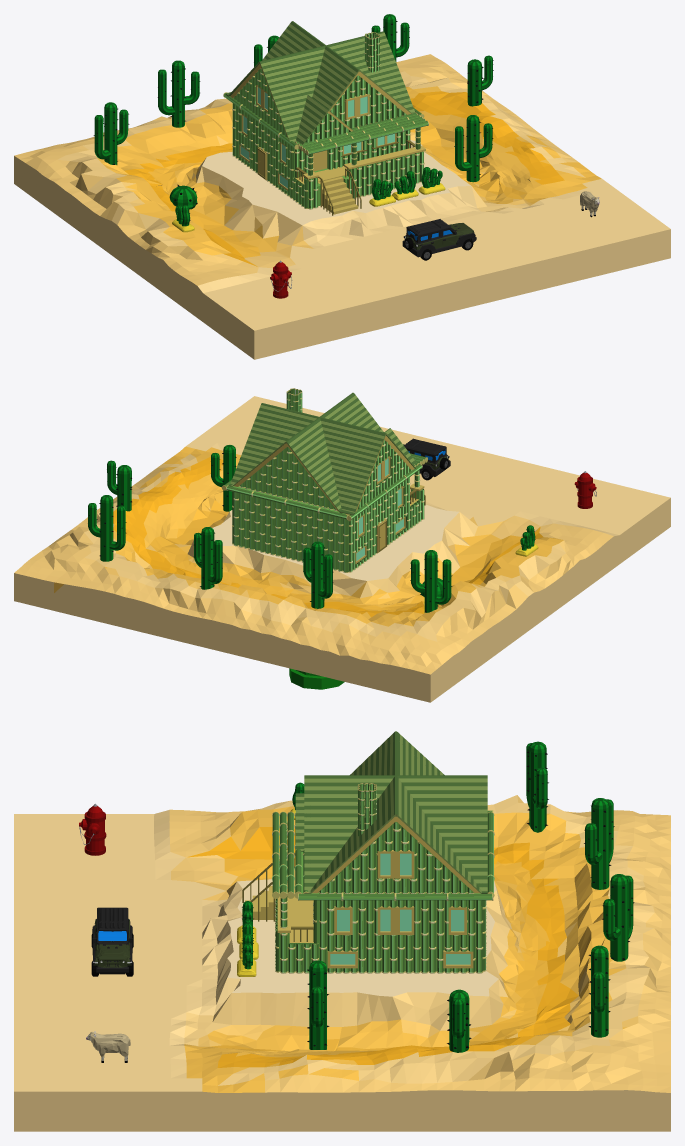
3 views of the same model, one above another, from view 1: azimuth 30°, elevation 25°; view 2: azimuth 150°, elevation 25°; view 3: azimuth 270°, elevation 25° (orthographic). The views are drawn at different scales.
Visible parts, largest first — view 1: Cube.001, Cube.1327, VEHICLES_JEEP, Cylinder.037, Cylinder.044, Cylinder.045, Cylinder.038, Cylinder.042, OBJRANDOM_FIRE_HYDRANT, Cylinder.039, Cylinder.041, Sphere.023 (+1 smaller); view 2: Cube.001, Cube.1327, Cylinder.042, Cylinder.045, Cylinder.044, Cylinder.043, VEHICLES_JEEP, Cylinder.037, Cylinder.038, UNDERGROUND_PIPES, OBJRANDOM_FIRE_HYDRANT; view 3: Cube.001, Cube.1327, VEHICLES_JEEP, Cylinder.043, Cylinder.044, Cylinder.045, Cylinder.042, Cylinder.037, Cylinder.038, OBJRANDOM_FIRE_HYDRANT, ANIMAL_OVEJA, Cylinder.041.
Part boxes in pixels (x1=…): Cube.001: x1=14, y1=54, x2=670, y2=359; Cube.1327: x1=223, y1=21, x2=428, y2=215; VEHICLES_JEEP: x1=402, y1=219, x2=476, y2=260; Cylinder.037: x1=454, y1=115, x2=493, y2=182; Cylinder.044: x1=157, y1=60, x2=200, y2=127; Cylinder.045: x1=93, y1=102, x2=129, y2=164; Cylinder.038: x1=467, y1=55, x2=493, y2=106; Cylinder.042: x1=371, y1=14, x2=409, y2=61; OBJRANDOM_FIRE_HYDRANT: x1=270, y1=260, x2=292, y2=298; Cylinder.039: x1=369, y1=179, x2=395, y2=206; Cylinder.041: x1=418, y1=167, x2=445, y2=194; Sphere.023: x1=169, y1=184, x2=197, y2=209; Cube.001: x1=14, y1=396, x2=670, y2=702; Cube.1327: x1=221, y1=388, x2=427, y2=572; Cylinder.042: x1=88, y1=495, x2=126, y2=561; Cylinder.045: x1=410, y1=550, x2=452, y2=612; Cylinder.044: x1=303, y1=541, x2=333, y2=608; Cylinder.043: x1=193, y1=527, x2=222, y2=589; VEHICLES_JEEP: x1=403, y1=438, x2=450, y2=480; Cylinder.037: x1=211, y1=445, x2=240, y2=511; Cylinder.038: x1=107, y1=460, x2=131, y2=511; UNDERGROUND_PIPES: x1=289, y1=668, x2=344, y2=689; OBJRANDOM_FIRE_HYDRANT: x1=574, y1=471, x2=596, y2=508; Cube.001: x1=14, y1=795, x2=670, y2=1131; Cube.1327: x1=242, y1=731, x2=494, y2=973; VEHICLES_JEEP: x1=91, y1=907, x2=133, y2=976; Cylinder.043: x1=602, y1=874, x2=634, y2=961; Cylinder.044: x1=584, y1=798, x2=614, y2=889; Cylinder.045: x1=526, y1=741, x2=548, y2=832; Cylinder.042: x1=588, y1=945, x2=610, y2=1037; Cylinder.037: x1=307, y1=960, x2=329, y2=1049; Cylinder.038: x1=447, y1=989, x2=471, y2=1052; OBJRANDOM_FIRE_HYDRANT: x1=79, y1=803, x2=106, y2=855; ANIMAL_OVEJA: x1=86, y1=1031, x2=130, y2=1062; Cylinder.041: x1=237, y1=934, x2=256, y2=976.
Bounding box in the file's own units: 4002 × 2219 × 4001.
Materials: 28 (3 with a texture image).
